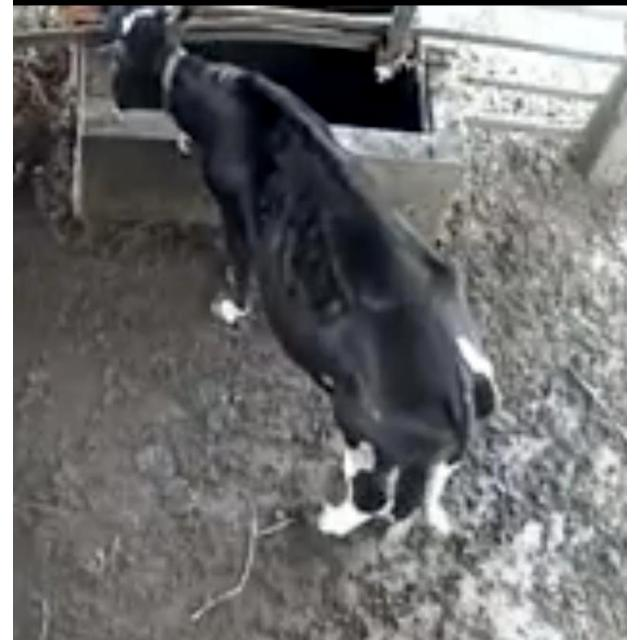drink: (90, 2, 298, 158)
